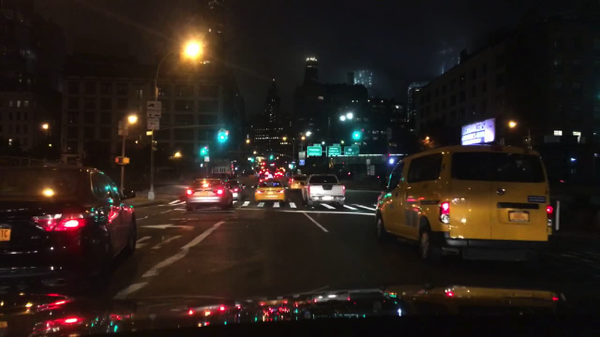car: (374, 119, 552, 273), (0, 163, 138, 296), (184, 177, 233, 212), (250, 177, 287, 205), (226, 178, 246, 204), (287, 173, 308, 192), (258, 169, 274, 182), (275, 169, 284, 178)
traffic light: (220, 128, 226, 142), (123, 156, 130, 165), (268, 151, 273, 161), (115, 156, 120, 164), (201, 148, 206, 155), (354, 132, 359, 139), (249, 157, 254, 164), (389, 159, 394, 166), (262, 160, 265, 166)
traffic sign: (306, 145, 322, 157), (324, 146, 341, 157), (343, 146, 360, 157), (146, 101, 162, 111), (147, 120, 161, 130), (365, 165, 375, 177), (118, 128, 130, 136), (147, 112, 162, 118), (118, 120, 128, 129), (298, 150, 306, 161), (203, 156, 210, 164), (311, 142, 321, 147), (365, 157, 370, 165), (350, 143, 359, 147), (333, 143, 340, 147), (292, 159, 296, 165)
truck: (300, 173, 345, 210)
